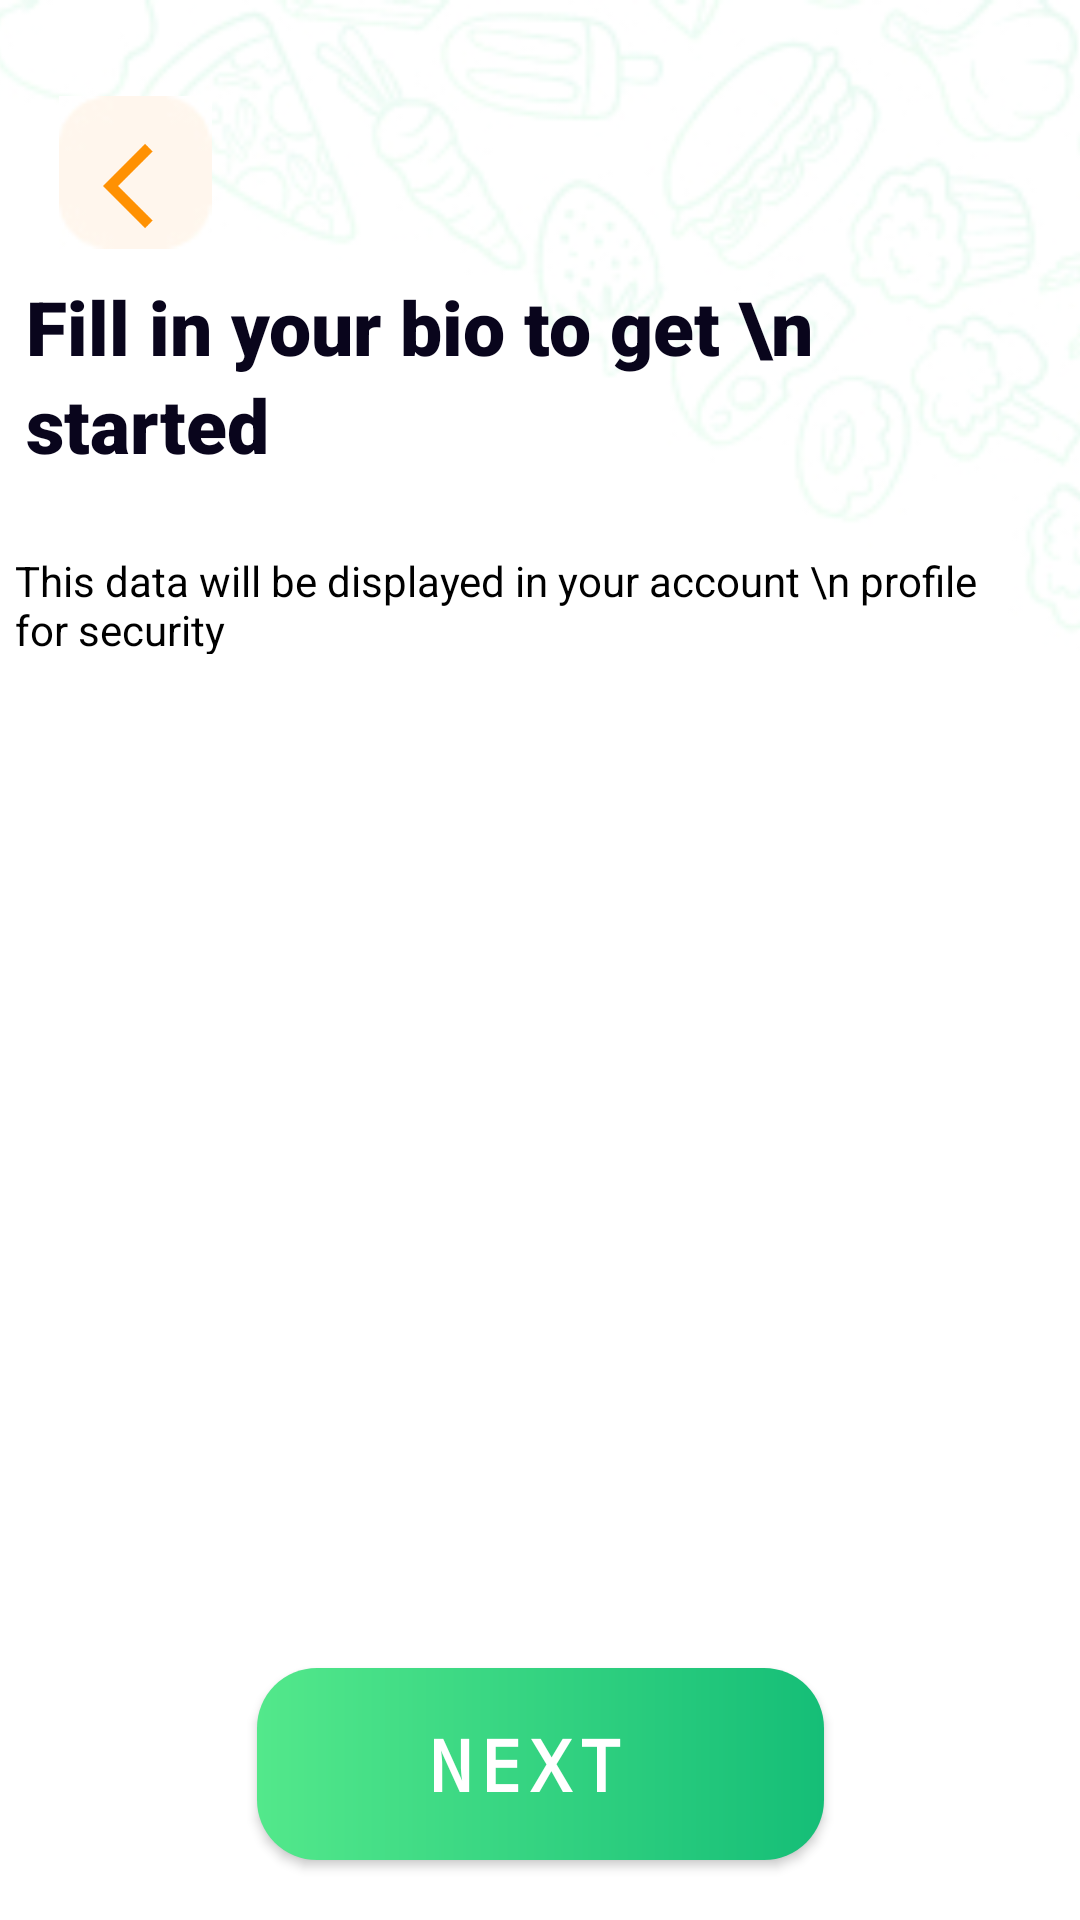

Icons on this 1080px×1920px Android screen, each with the point to tap as (x=x, y=y):
arrow back: (x=128, y=186)
